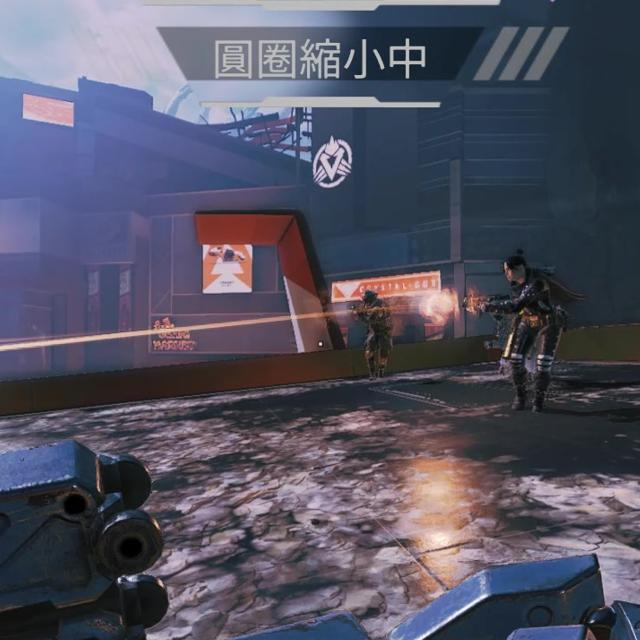avatar: (498, 245, 568, 416), (358, 288, 395, 385)
